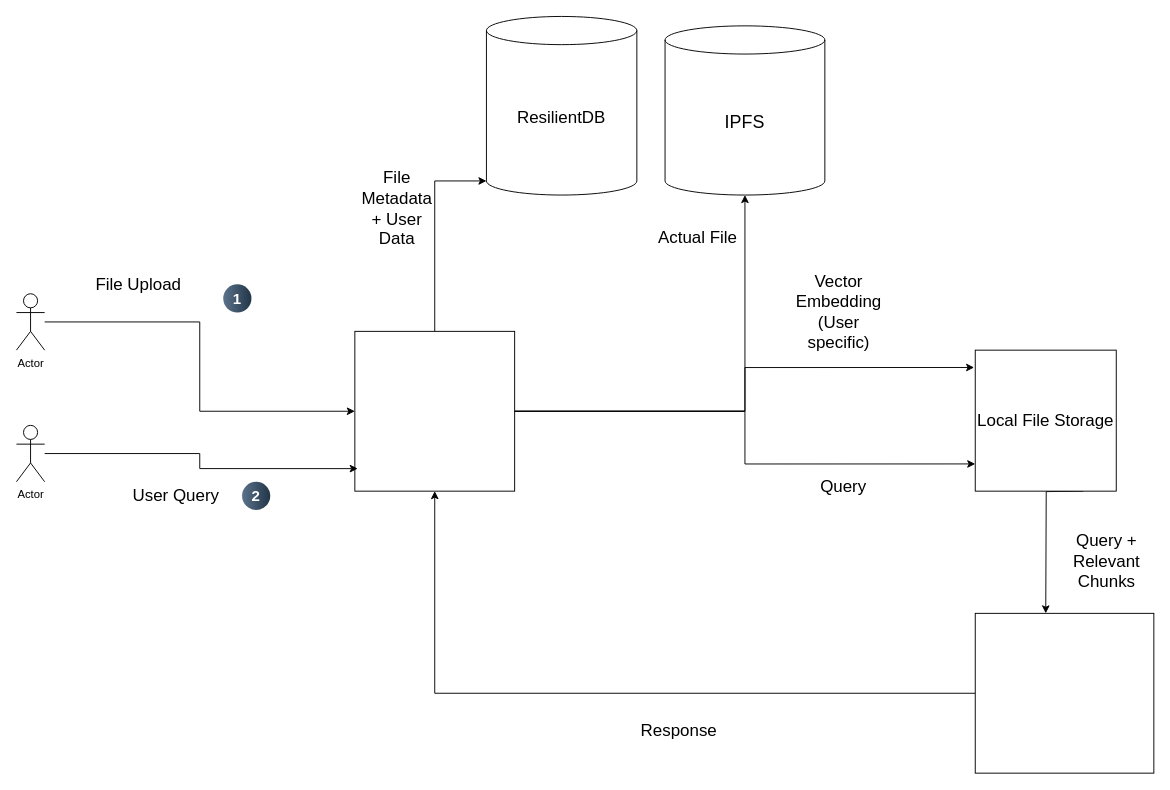
Image size: 1170x790. Some labels were removed from this diagram. The shapes that lost their labels are listed below. From the top down, each one's centre as x and y in pixels, then its label:
the point at 434,410: Backend Service
the point at 1064,692: Gemini(Replacable by Local LLM)
